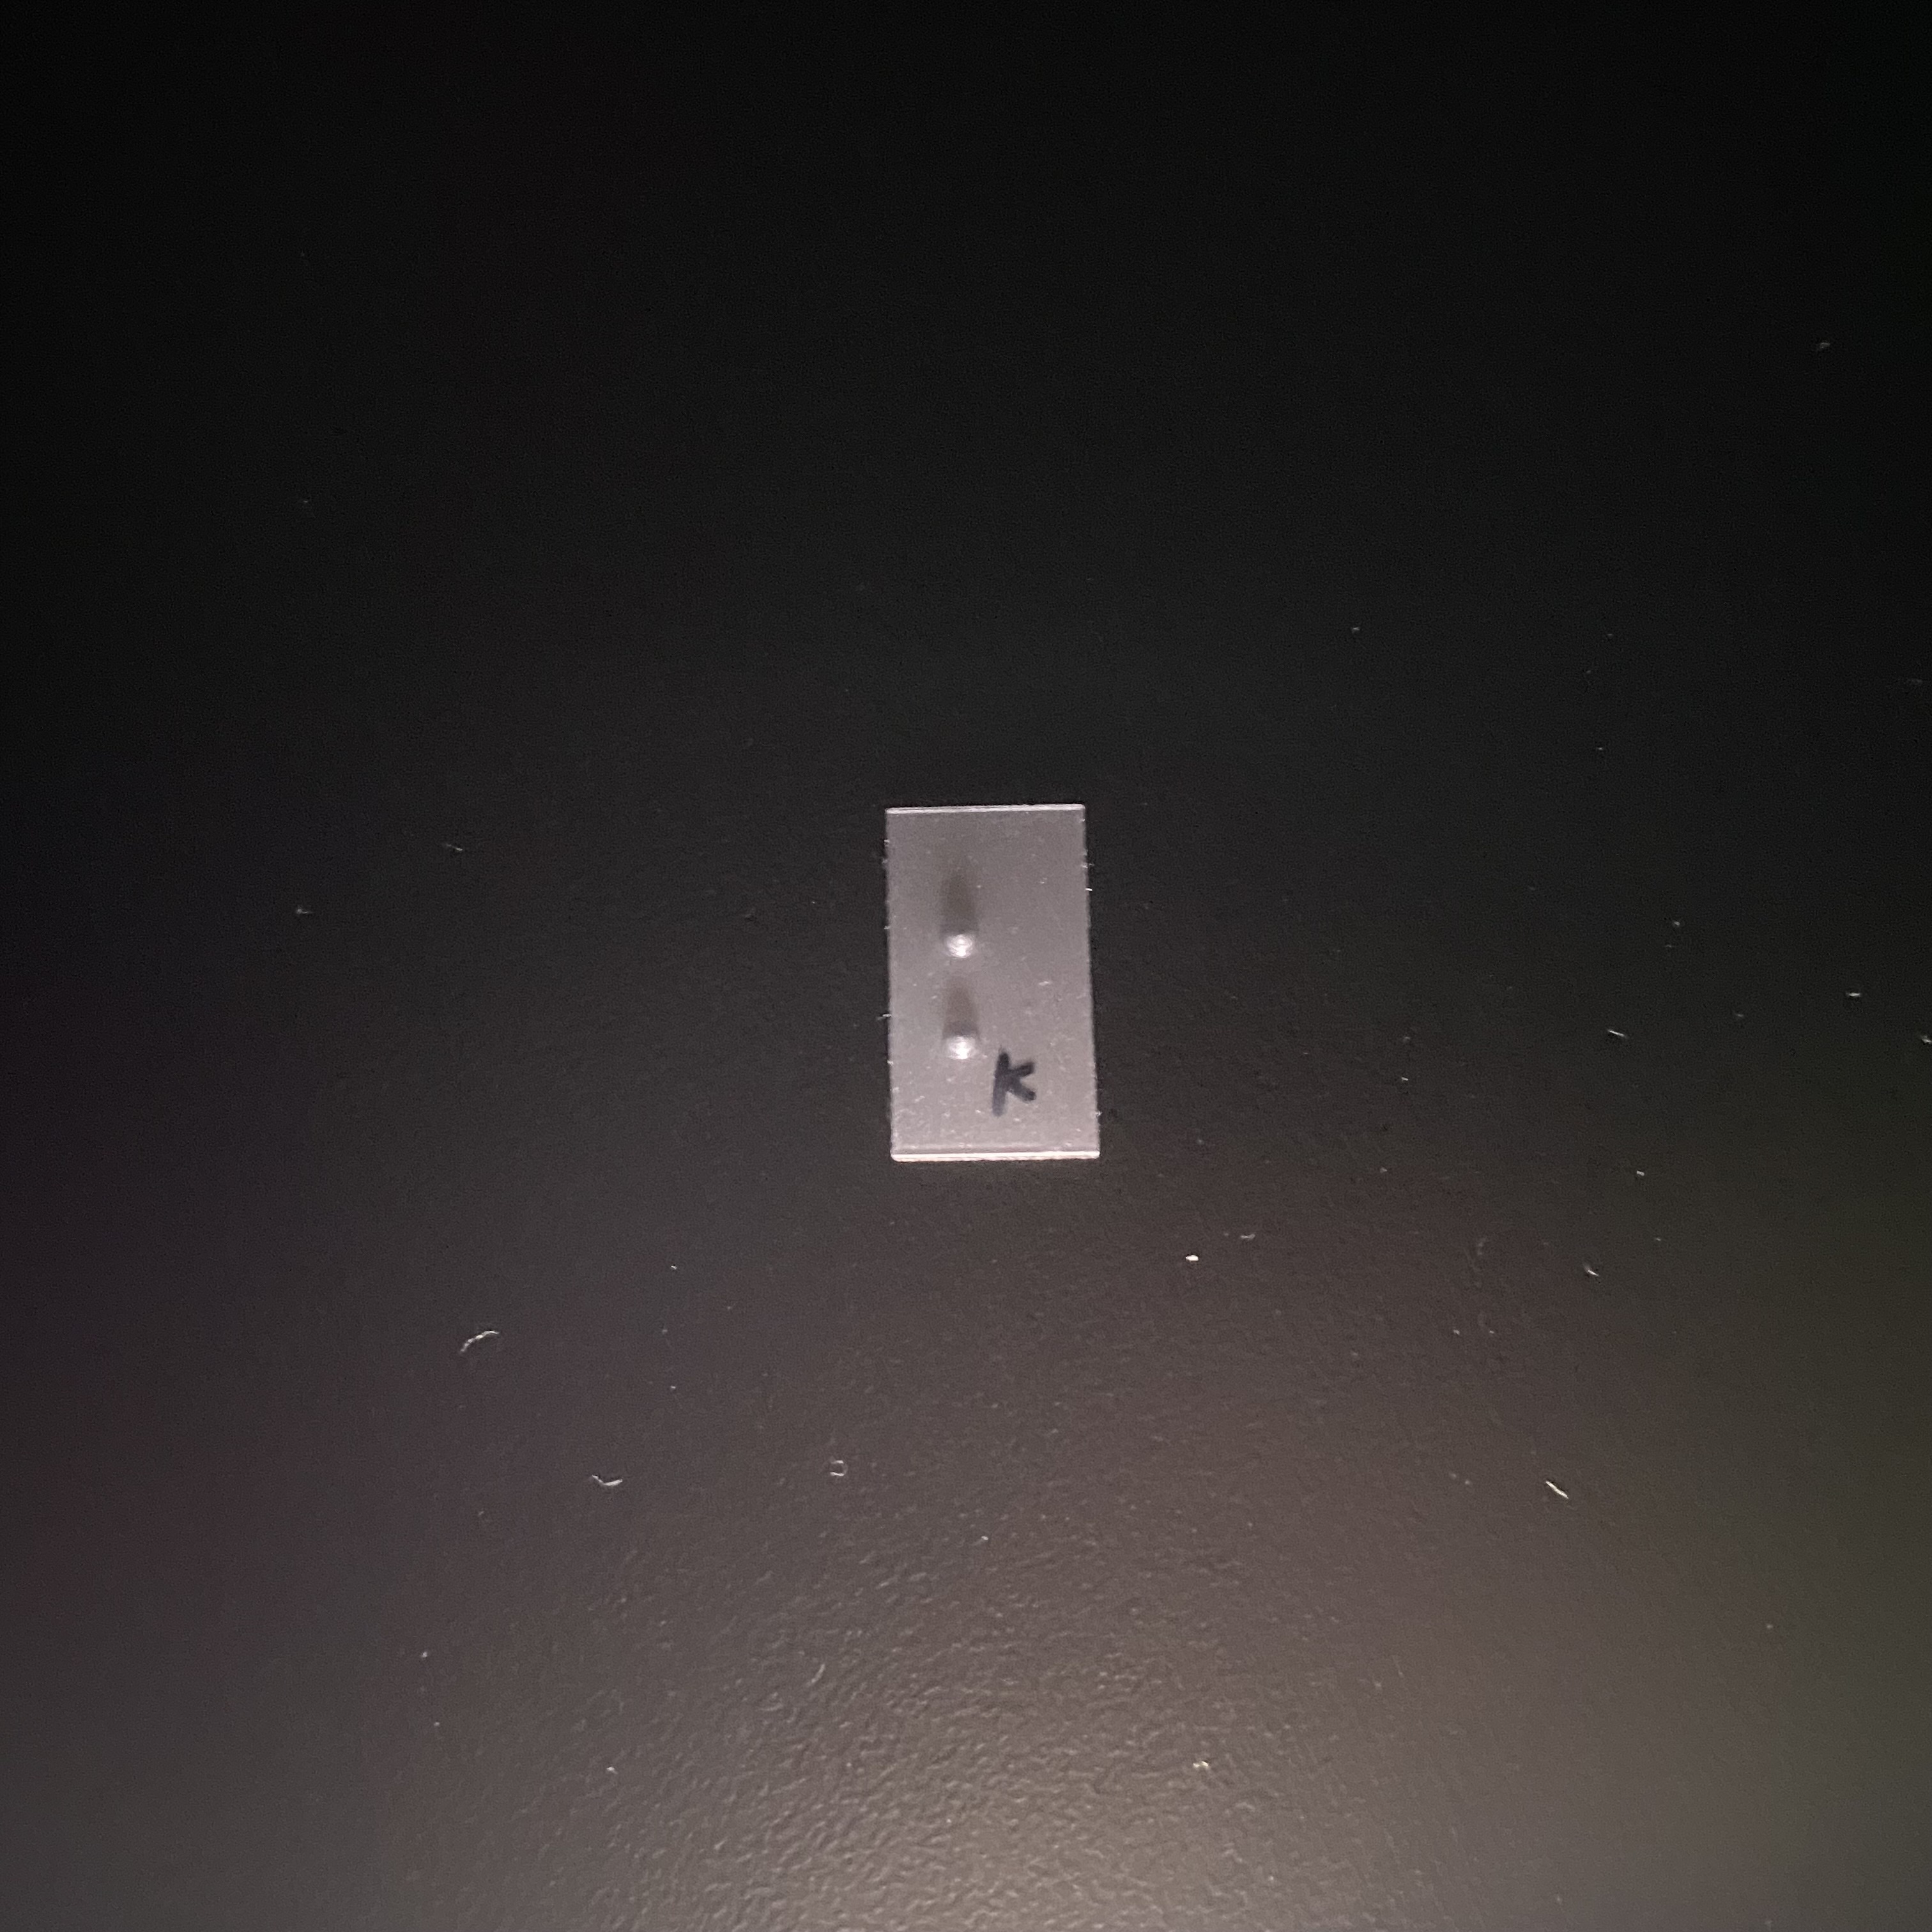k: (935, 894, 1043, 1066)
